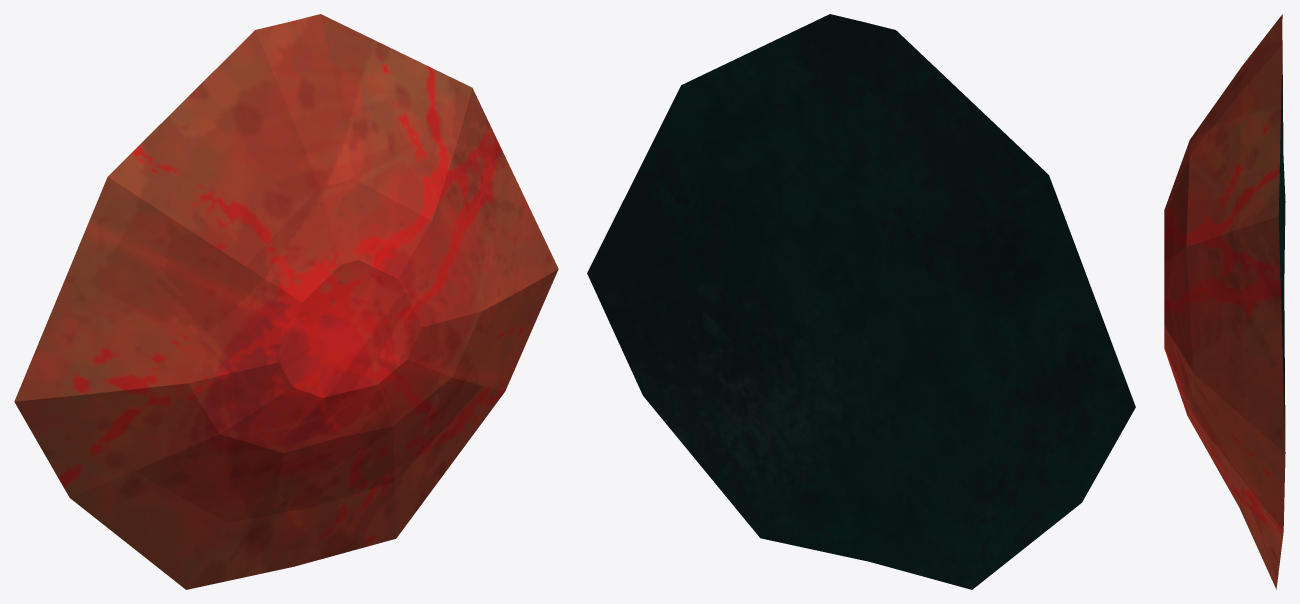
Rendered from MOD_L2_Crystal01.fbx.
The picture shows the model from 3 angles, left to right: view 1: azimuth 30°, elevation 25°; view 2: azimuth 150°, elevation 25°; view 3: azimuth 270°, elevation 25°; orthographic projection. The views are drawn at different scales.
Visible parts, largest first — view 1: Plane.006; view 2: Plane.006; view 3: Plane.006.
Boxes of the visible parts, x1=… form: Plane.006: x1=14, y1=14, x2=558, y2=589; Plane.006: x1=587, y1=14, x2=1135, y2=589; Plane.006: x1=1164, y1=14, x2=1285, y2=589.
Size of the model in its own units: 4.68 by 4.44 by 0.9505.
